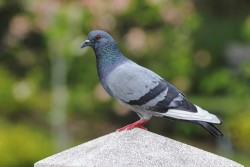pigeon: (78, 27, 226, 139)
